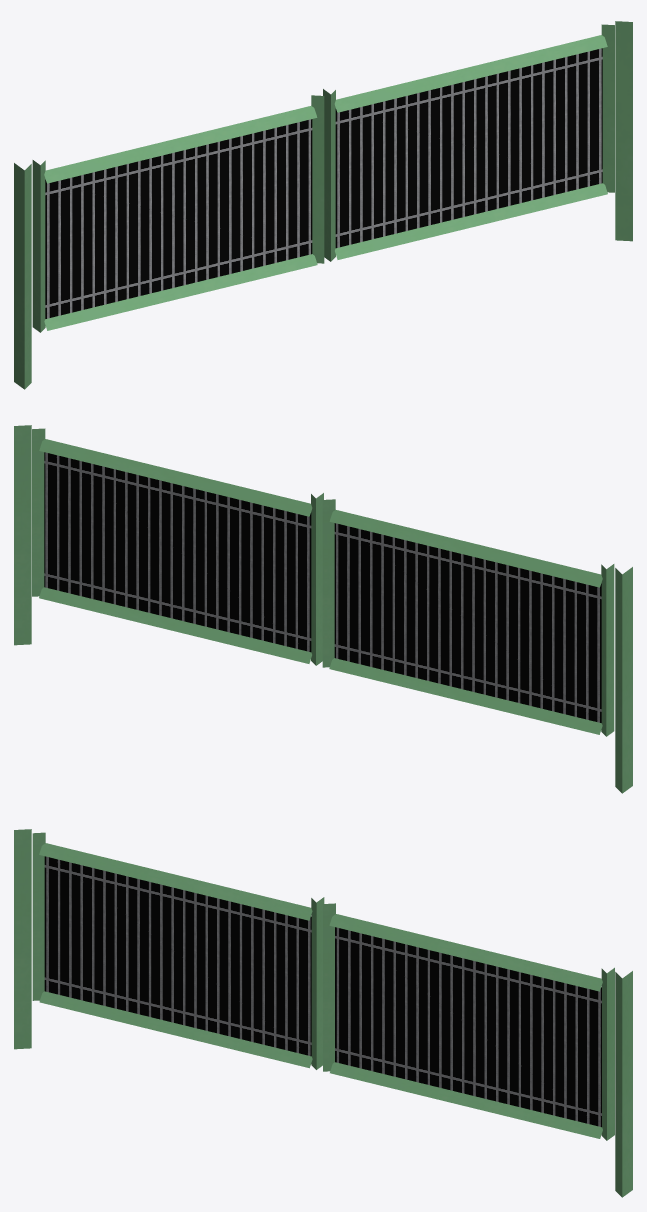
The model's file is fence-mesh-gateX2-2m-cbj_LOD01.gltf.
3 renders of one model, top to bottom at view 1: azimuth 30°, elevation 25°; view 2: azimuth 150°, elevation 25°; view 3: azimuth 330°, elevation 25°, orthographic.
Parts seen in each view (by area): view 1: post01; view 2: post01; view 3: post01.
Part boxes in pixels (<box>): post01: <box>14,21,632,389</box>; post01: <box>14,425,632,793</box>; post01: <box>14,829,632,1197</box>.
Size of what is drawn, in the model's own units: 4.06 by 1.4 by 0.1238.
